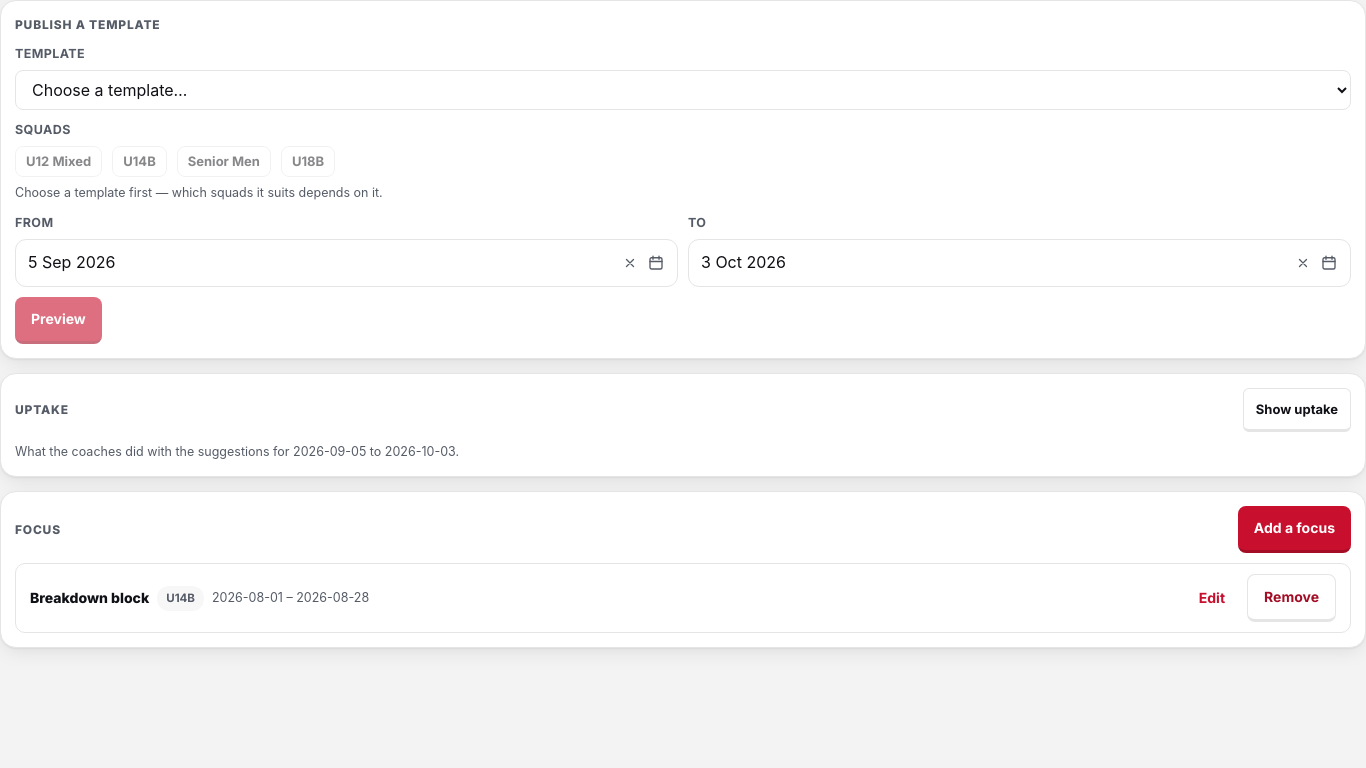
Test case: TrainingPublish › an is_senior squad stays tickable on a junior-capped template, with a note not a refusal
The width and height of the screenshot is (1366, 768).
Select "Contact hour · 60 min" in the dropdown labelled "Template": x=683, y=90 [15,70,1351,110]
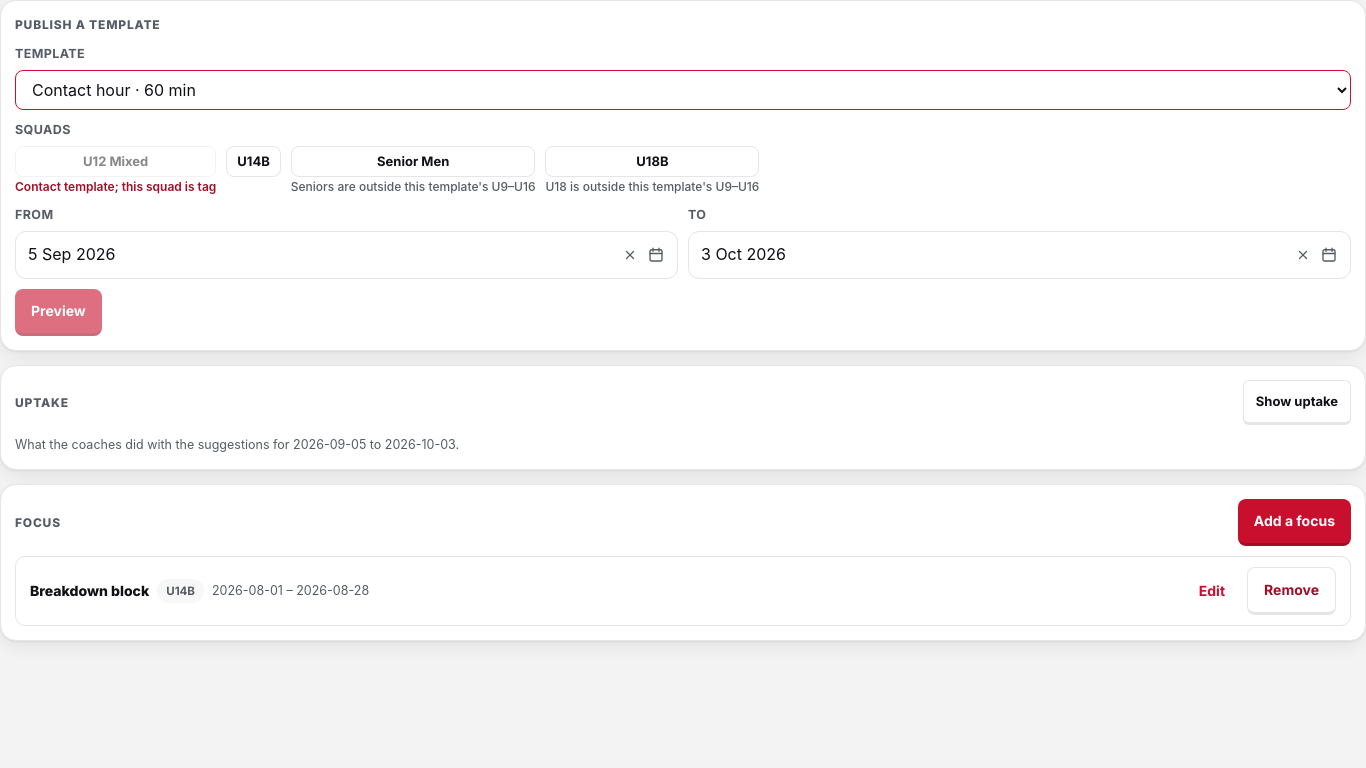
Check: the checkbox named "Senior Men, Seniors are outside this template's U9–U16" is enabled, box [291,146,536,177]
